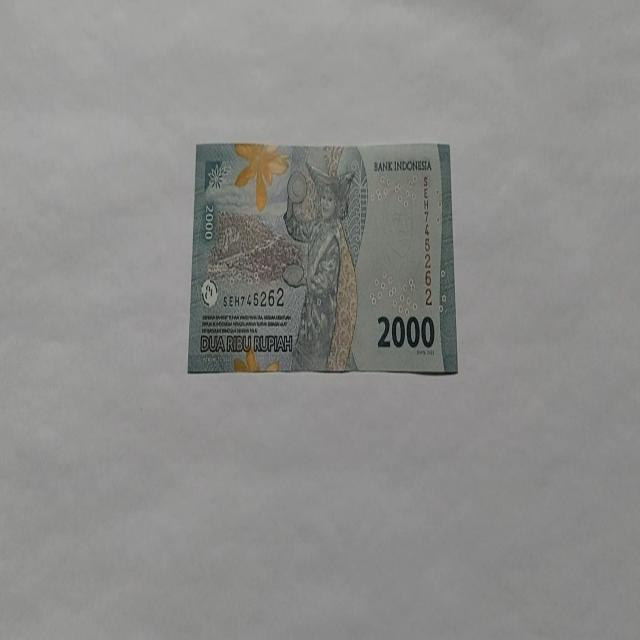dua ribu rupiah: (186, 140, 458, 376), (281, 159, 359, 372)
